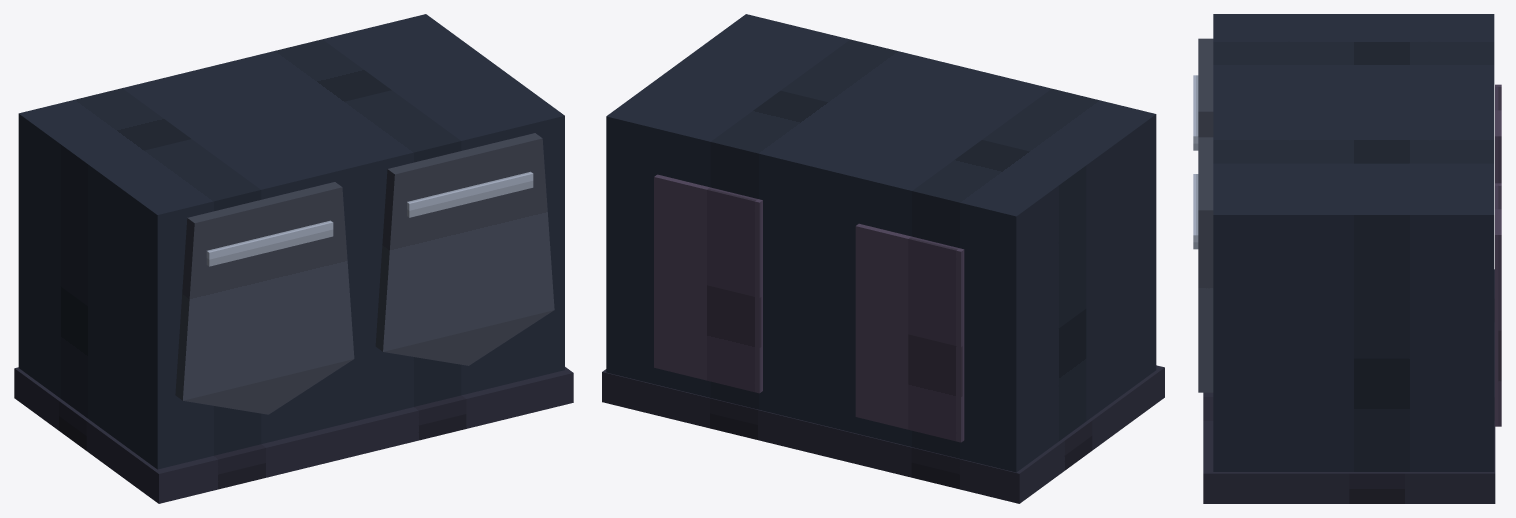
Rendered from jindan_zixiao_boots.obj.
The picture shows the model from 3 angles, left to right: view 1: azimuth 30°, elevation 25°; view 2: azimuth 150°, elevation 25°; view 3: azimuth 270°, elevation 25°; orthographic projection.
Visible parts, largest first — view 1: zx_boot_-1, zx_boot_1, zx_boot_guard_1, zx_boot_guard_-1, zx_sole_-1, zx_sole_1, zx_boot_trim_-1, zx_boot_trim_1; view 2: zx_boot_-1, zx_boot_1, zx_boot_rear_-1, zx_boot_rear_1, zx_sole_-1, zx_sole_1; view 3: zx_boot_1, zx_boot_-1, zx_sole_1, zx_boot_guard_1, zx_boot_rear_1, zx_boot_guard_-1, zx_boot_rear_-1, zx_boot_trim_-1, zx_boot_trim_1.
Part boxes in pixels (x1=…): zx_boot_-1: x1=18, y1=63, x2=364, y2=469; zx_boot_1: x1=219, y1=14, x2=564, y2=418; zx_boot_guard_1: x1=375, y1=133, x2=554, y2=365; zx_boot_guard_-1: x1=175, y1=182, x2=354, y2=414; zx_sole_-1: x1=14, y1=367, x2=373, y2=503; zx_sole_1: x1=359, y1=367, x2=573, y2=454; zx_boot_trim_-1: x1=206, y1=220, x2=333, y2=266; zx_boot_trim_1: x1=407, y1=171, x2=533, y2=217; zx_boot_-1: x1=807, y1=63, x2=1156, y2=472; zx_boot_1: x1=606, y1=14, x2=947, y2=422; zx_boot_rear_-1: x1=855, y1=223, x2=964, y2=442; zx_boot_rear_1: x1=654, y1=174, x2=762, y2=393; zx_sole_-1: x1=803, y1=365, x2=1164, y2=503; zx_sole_1: x1=602, y1=369, x2=817, y2=451; zx_boot_1: x1=1213, y1=112, x2=1494, y2=471; zx_boot_-1: x1=1213, y1=14, x2=1494, y2=112; zx_sole_1: x1=1203, y1=368, x2=1495, y2=503; zx_boot_guard_1: x1=1198, y1=137, x2=1213, y2=392; zx_boot_rear_1: x1=1495, y1=183, x2=1501, y2=426; zx_boot_guard_-1: x1=1198, y1=38, x2=1213, y2=137; zx_boot_rear_-1: x1=1495, y1=84, x2=1501, y2=183; zx_boot_trim_-1: x1=1193, y1=75, x2=1198, y2=150; zx_boot_trim_1: x1=1193, y1=174, x2=1198, y2=249.
Size of the model in its own units: 0.5437 by 0.3562 by 0.3469.
